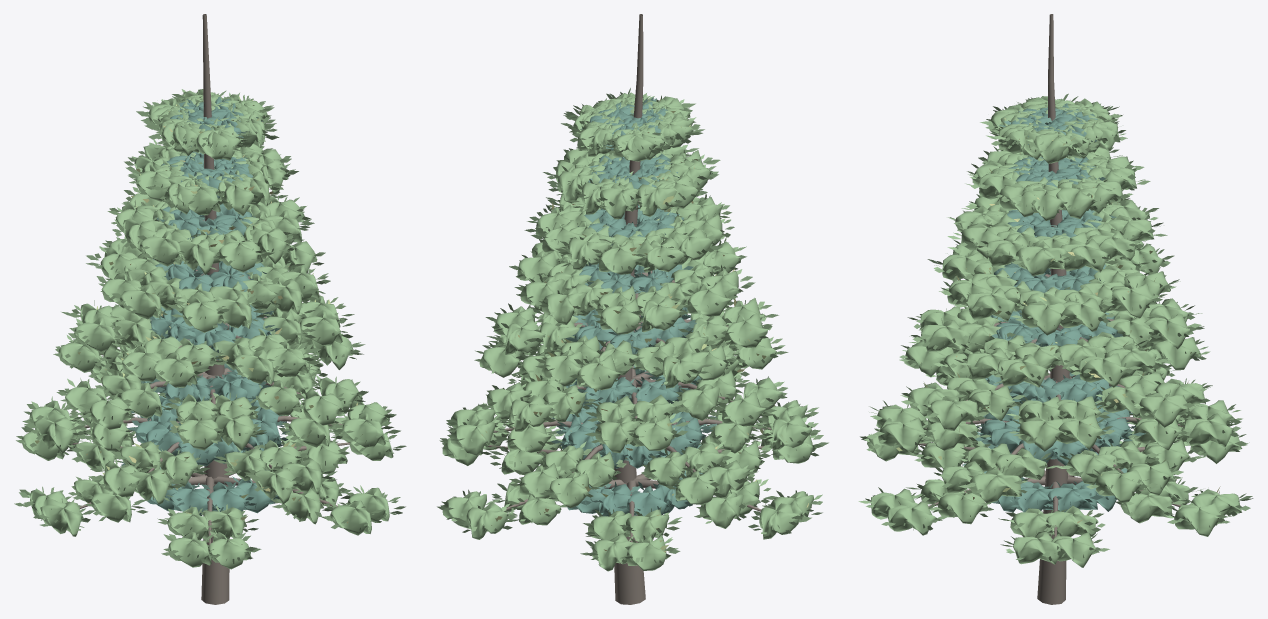
File: fir_dense.glb
The picture shows the model from 3 angles, left to right: view 1: azimuth 30°, elevation 25°; view 2: azimuth 150°, elevation 25°; view 3: azimuth 270°, elevation 25°; orthographic projection.
Visible parts, largest first — view 1: fir_dense; view 2: fir_dense; view 3: fir_dense.
Boxes of the visible parts, left/top/right/bottom form: fir_dense: left=14, top=14, right=406, bottom=604; fir_dense: left=437, top=14, right=828, bottom=604; fir_dense: left=858, top=14, right=1253, bottom=604.
Size of the model in its own units: 6.23 by 9.61 by 5.96.
